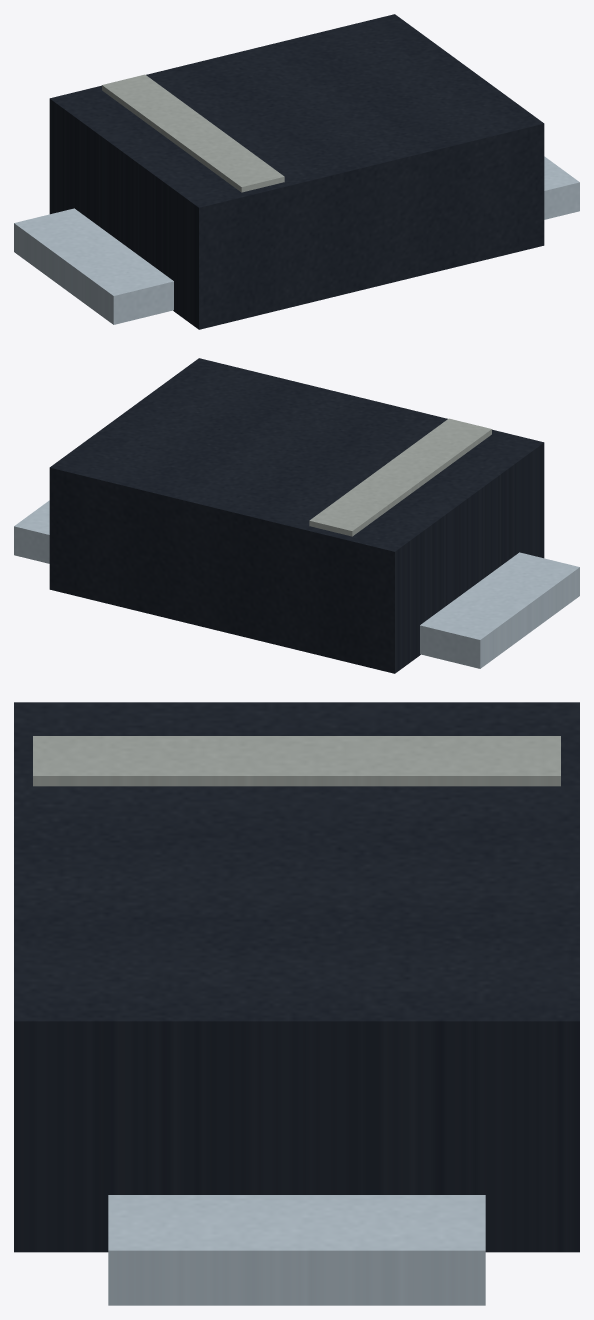
3 views of the same model, one above another, from view 1: azimuth 30°, elevation 25°; view 2: azimuth 150°, elevation 25°; view 3: azimuth 270°, elevation 25° (orthographic). The views are drawn at different scales.
Parts seen in each view (by area): view 1: 171_L114_D3__PSMAT__Black_Epoxy, 171_L114_D3__PSMAT__Tin_Solder, 171_L114_D3__PSMAT__IC_LaserMark; view 2: 171_L114_D3__PSMAT__Black_Epoxy, 171_L114_D3__PSMAT__Tin_Solder, 171_L114_D3__PSMAT__IC_LaserMark; view 3: 171_L114_D3__PSMAT__Black_Epoxy, 171_L114_D3__PSMAT__Tin_Solder, 171_L114_D3__PSMAT__IC_LaserMark.
Boxes of the visible parts, x1,y1,x2,y2 form: 171_L114_D3__PSMAT__Black_Epoxy: [49, 14, 544, 329]; 171_L114_D3__PSMAT__Tin_Solder: [14, 156, 579, 324]; 171_L114_D3__PSMAT__IC_LaserMark: [102, 74, 284, 192]; 171_L114_D3__PSMAT__Black_Epoxy: [49, 358, 544, 673]; 171_L114_D3__PSMAT__Tin_Solder: [14, 500, 579, 668]; 171_L114_D3__PSMAT__IC_LaserMark: [309, 418, 491, 536]; 171_L114_D3__PSMAT__Black_Epoxy: [14, 702, 579, 1252]; 171_L114_D3__PSMAT__Tin_Solder: [108, 1195, 485, 1305]; 171_L114_D3__PSMAT__IC_LaserMark: [33, 736, 560, 786].
Size of the model in its own units: 0.0054 by 0.00141 by 0.003.
Materials: 3 (3 with a texture image).
